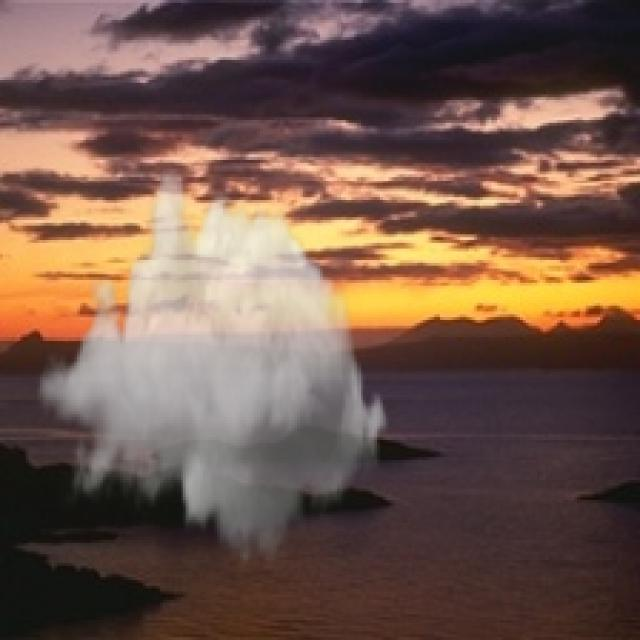Smoke: (37, 163, 392, 572)
